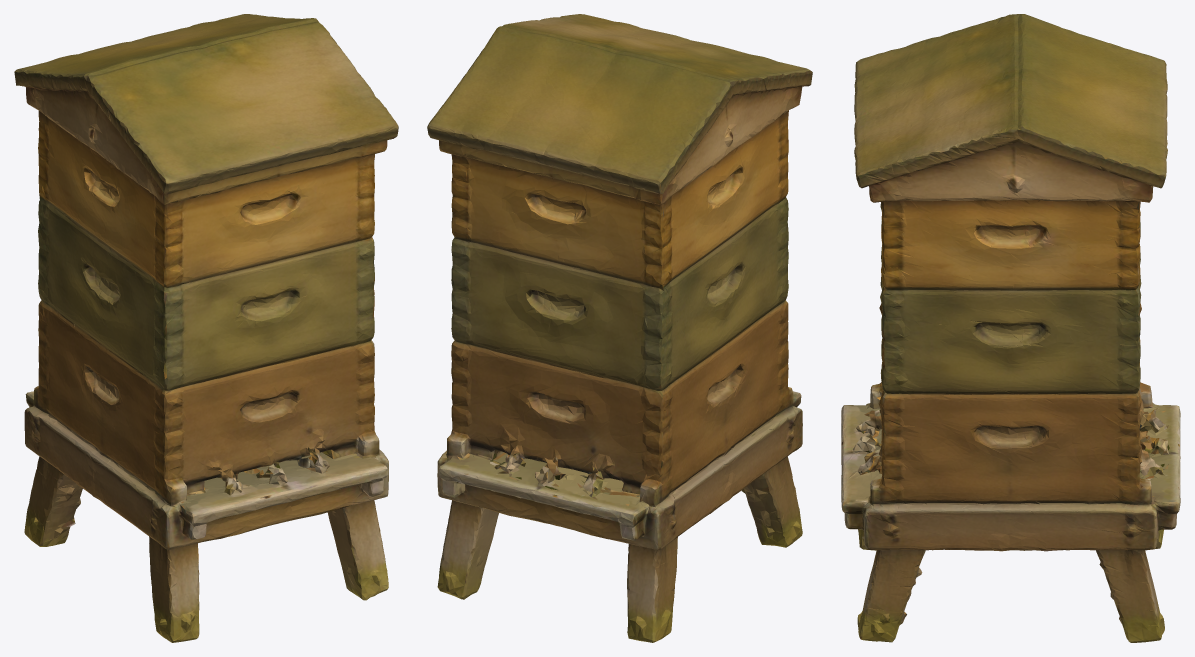
Rendered from wc-apiary-paint.glb.
3 renders of one model, left to right at view 1: azimuth 30°, elevation 25°; view 2: azimuth 150°, elevation 25°; view 3: azimuth 270°, elevation 25°, orthographic.
Parts seen in each view (by area): view 1: geometry_0; view 2: geometry_0; view 3: geometry_0.
Boxes of the visible parts, bbox=[...] form: geometry_0: bbox=[14, 14, 398, 642]; geometry_0: bbox=[427, 14, 812, 642]; geometry_0: bbox=[841, 14, 1180, 642].
Size of the model in its own units: 0.9455 by 2 by 1.17.
Materials: 1 (1 with a texture image).
